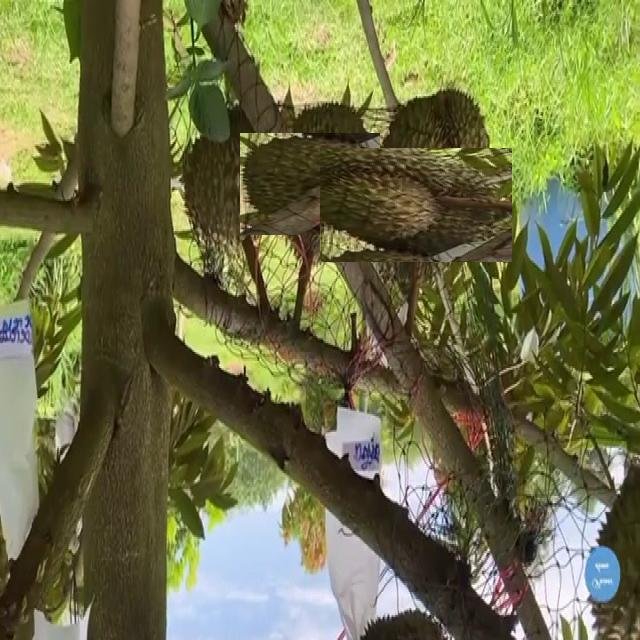durian: (339, 128, 492, 281), (380, 74, 494, 246), (256, 116, 390, 251), (182, 105, 282, 260)
